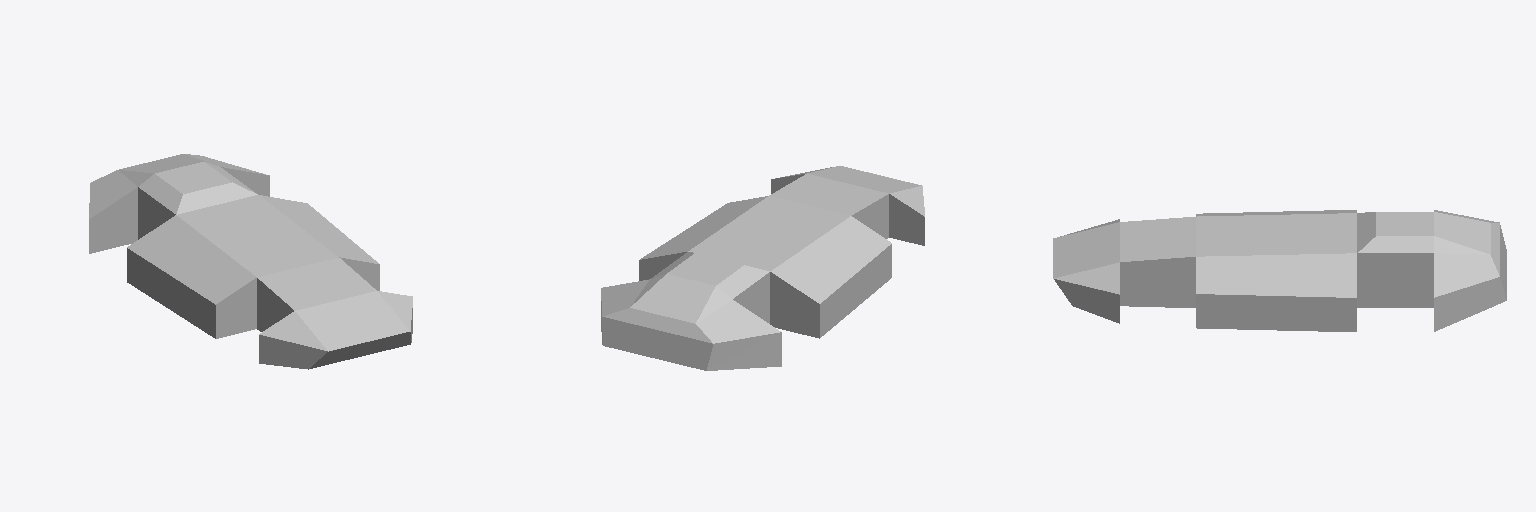
The model's file is Gamma.obj.
The picture shows the model from 3 angles: view 1: azimuth 30°, elevation 25°; view 2: azimuth 150°, elevation 25°; view 3: azimuth 270°, elevation 25°; orthographic projection.
Visible parts, largest first — view 1: default; view 2: default; view 3: default.
Boxes of the visible parts, <box> form: default: <box>89,154,412,369</box>; default: <box>601,166,924,370</box>; default: <box>1053,210,1506,331</box>.
Size of the model in its own units: 3.33 by 1.13 by 7.21.